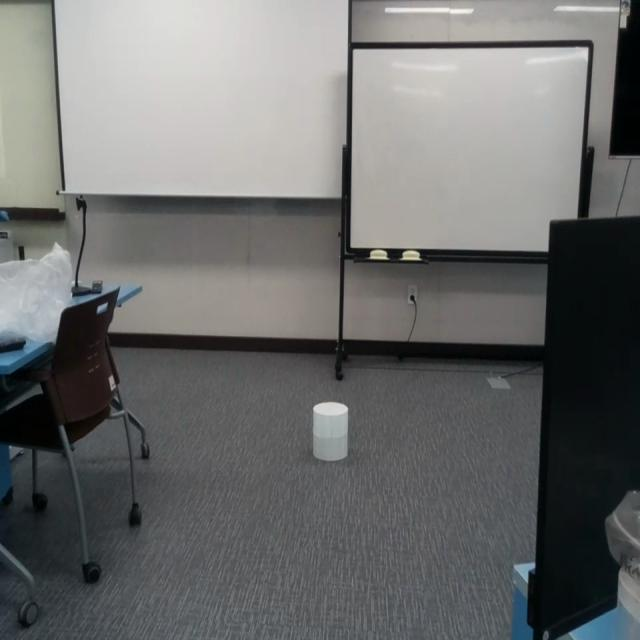cylinder: (312, 401, 349, 462)
